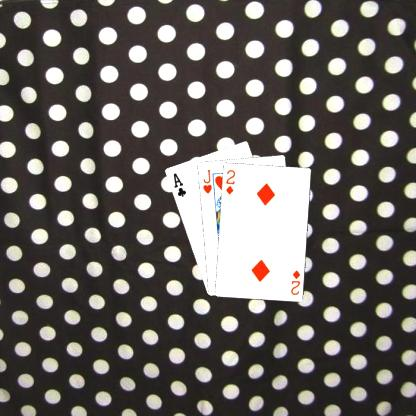2D: (288, 267, 302, 296), (223, 167, 236, 196)
AC: (171, 170, 187, 198)
JH: (200, 167, 213, 195)
